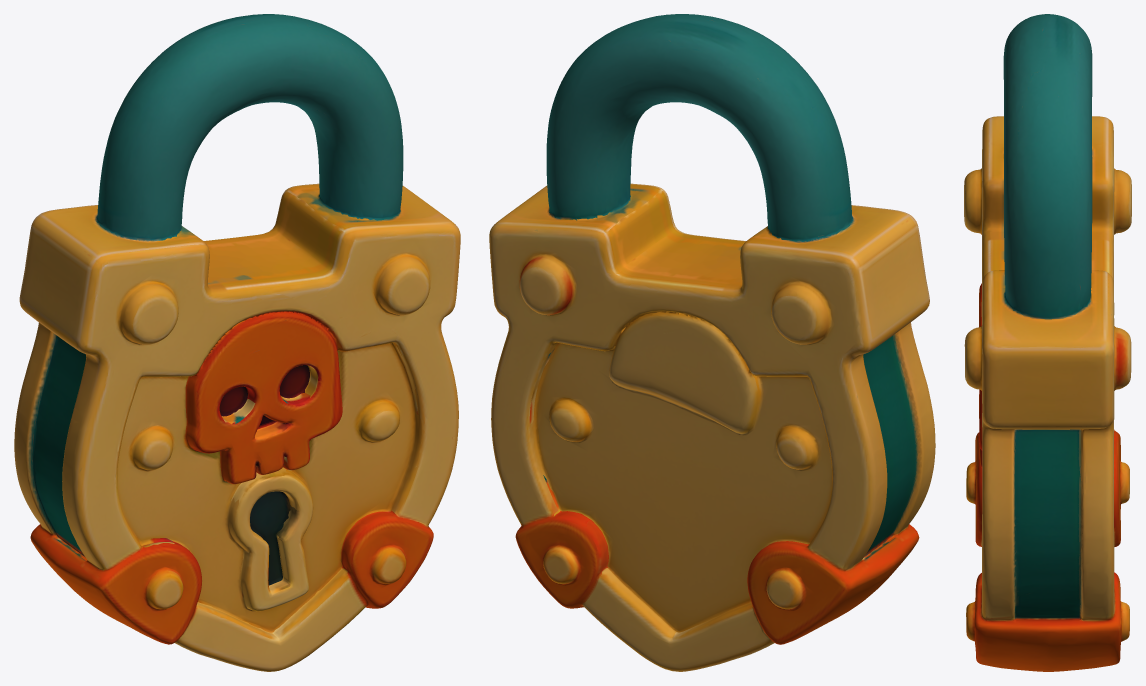
File: lock.glb
3 renders of one model, left to right at view 1: azimuth 30°, elevation 25°; view 2: azimuth 150°, elevation 25°; view 3: azimuth 270°, elevation 25°, orthographic.
Visible parts, largest first — view 1: demo_textured.obj; view 2: demo_textured.obj; view 3: demo_textured.obj.
Boxes of the visible parts, x1=… form: demo_textured.obj: x1=14, y1=14, x2=460, y2=671; demo_textured.obj: x1=489, y1=14, x2=935, y2=671; demo_textured.obj: x1=964, y1=14, x2=1131, y2=671.
Bounding box in the file's own units: 1.33 × 2.06 × 0.504.
1 material, 1 textured.
